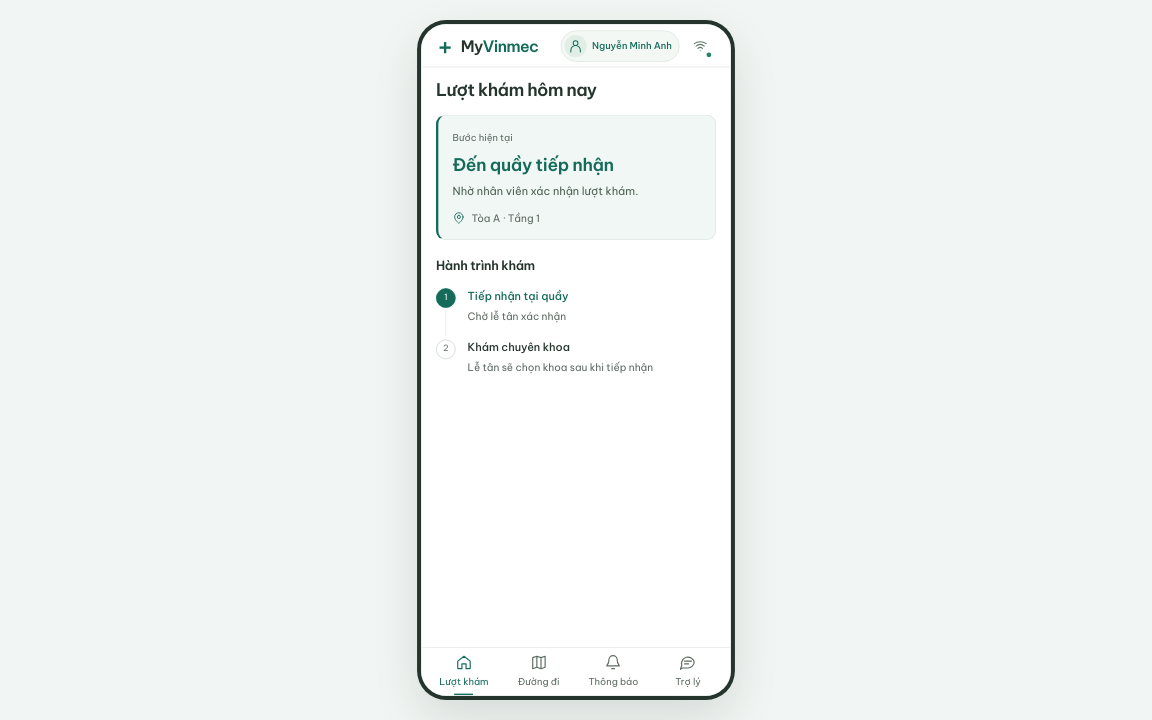
Scenario: plain product language › keeps the profile personal and exposes connection tools only with the explicit testing URL (tools=false)
Click the button with aria-label "Thông tin người bệnh": point(620, 46) [560, 30, 680, 61]
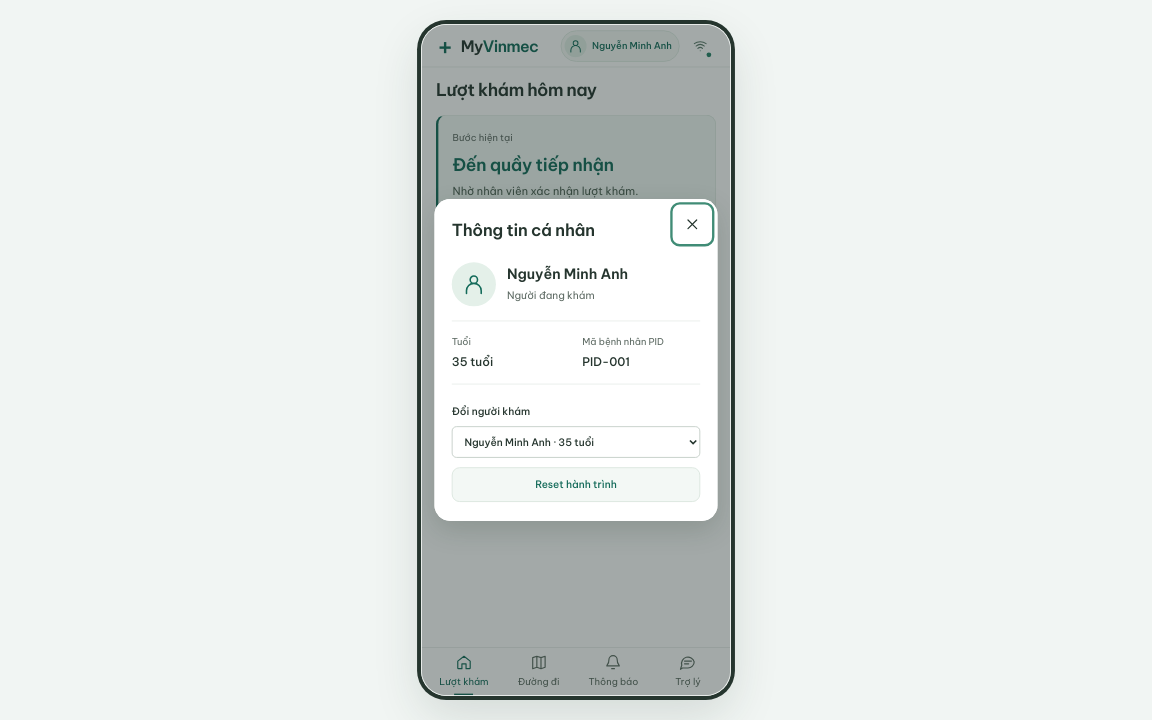
Expected: the dialog shows "Thông tin cá nhân", [452, 220, 595, 241]
